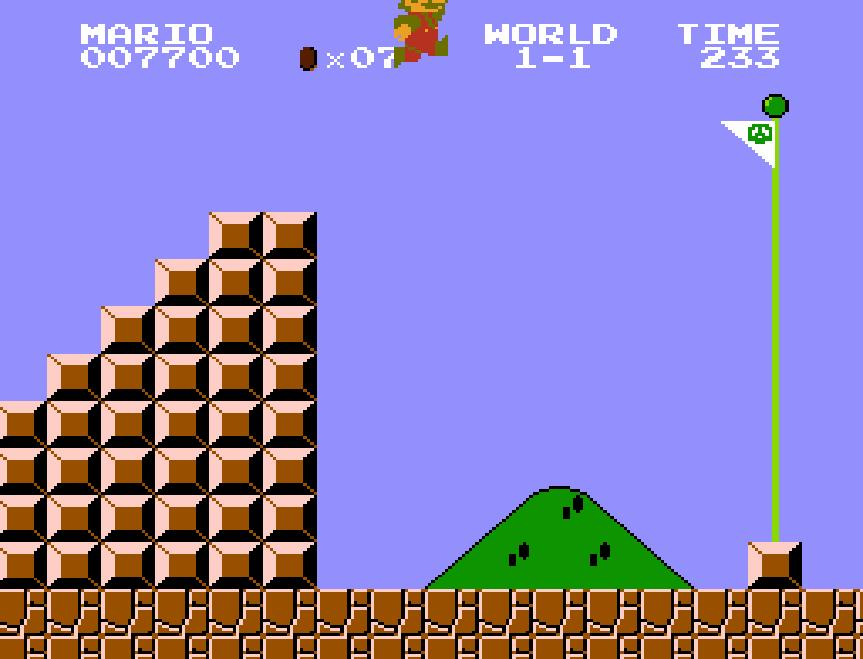big_mario: (392, 0, 450, 68)
